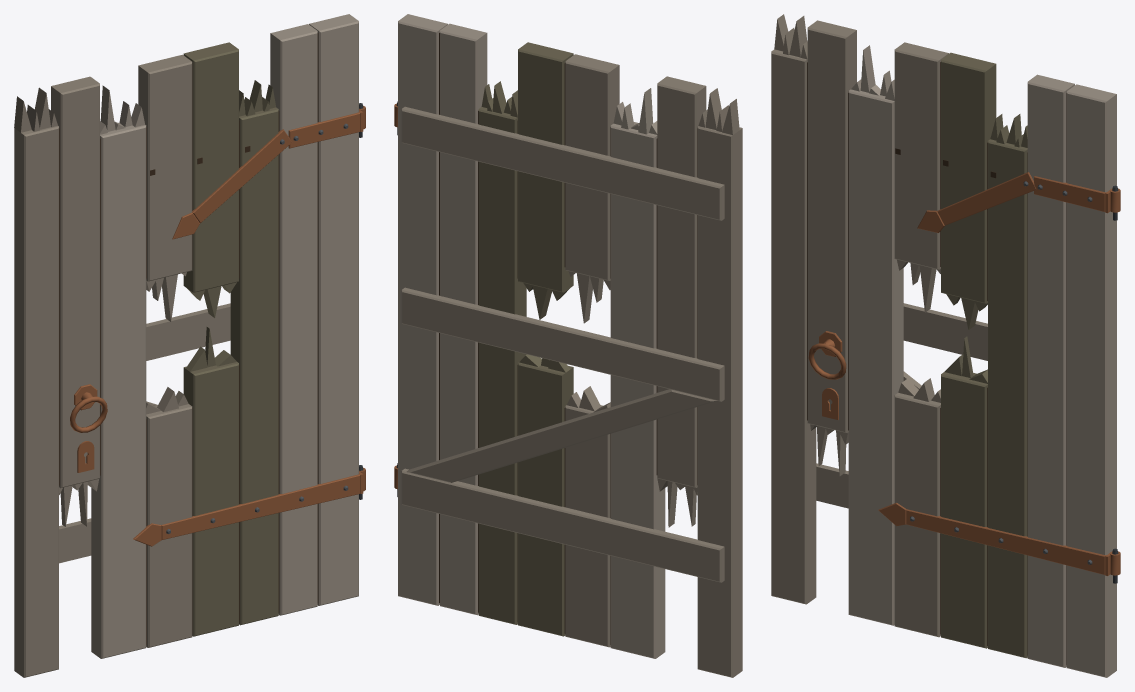
Rendered from SM_LPD_Door_DoorBroken_01.fbx.
The picture shows the model from 3 angles, left to right: view 1: azimuth 30°, elevation 25°; view 2: azimuth 150°, elevation 25°; view 3: azimuth 330°, elevation 25°; orthographic projection.
Visible parts, largest first — view 1: SM_LPD_Door_DoorBroken_01; view 2: SM_LPD_Door_DoorBroken_01; view 3: SM_LPD_Door_DoorBroken_01.
Boxes of the visible parts, <box> form: SM_LPD_Door_DoorBroken_01: <box>14,14,365,677</box>; SM_LPD_Door_DoorBroken_01: <box>394,14,742,677</box>; SM_LPD_Door_DoorBroken_01: <box>771,14,1120,677</box>.
Bounding box in the file's own units: 1.59 × 2.56 × 0.1766.
